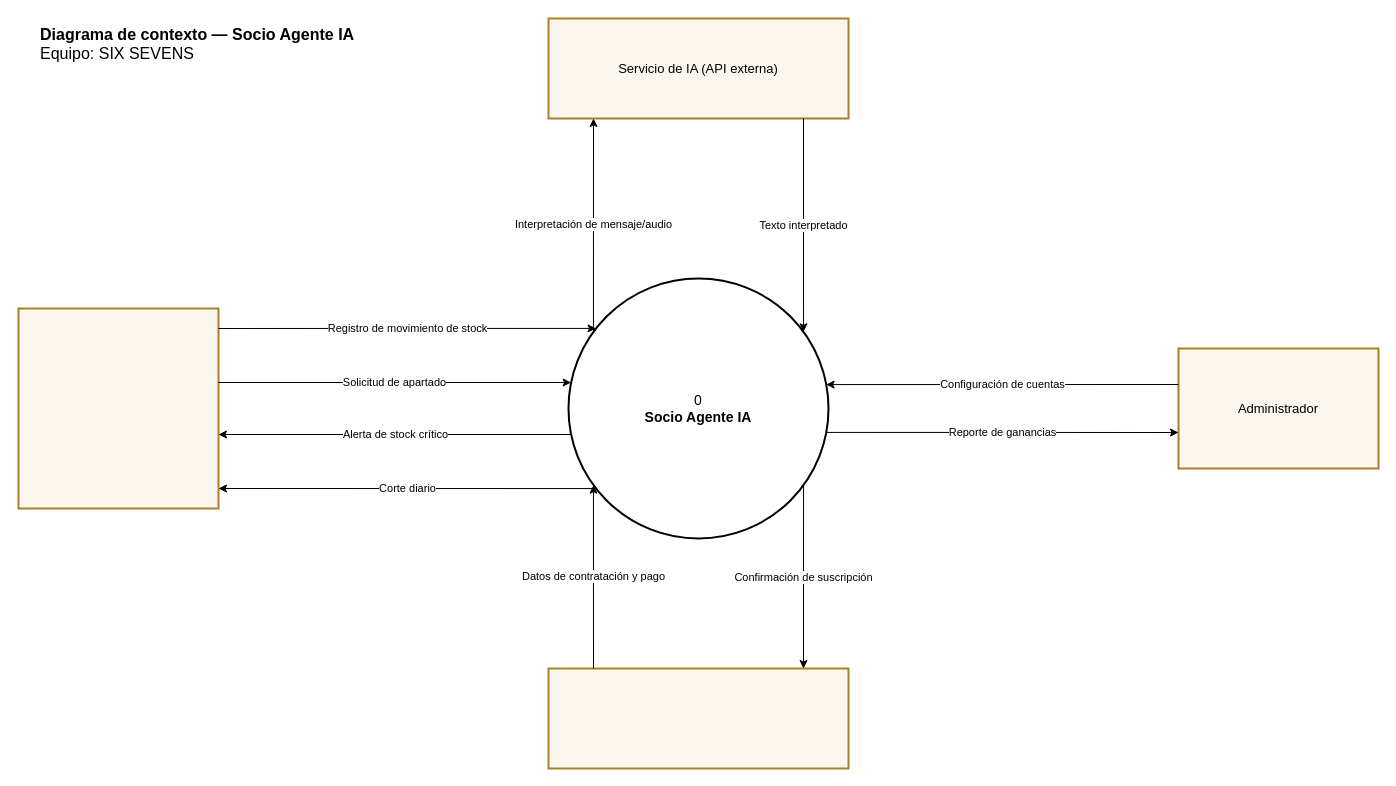
The diagram is 1396 pixels wide and 786 high, and some of its shapes have lost their labels. Each missing label, with the centre of its shape:
Cliente: pixel 698 718
Usuario Final: pixel 118 408
